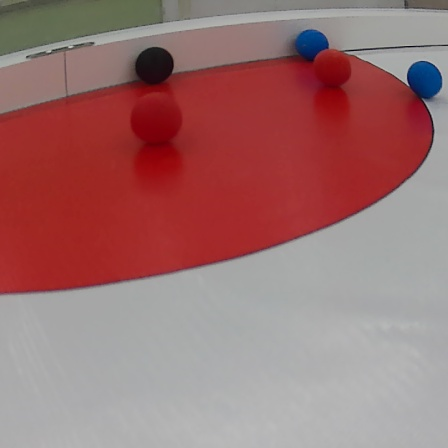black: (131, 45, 181, 79)
blue: (409, 58, 442, 99), (293, 27, 336, 56)
red: (129, 89, 188, 143), (315, 45, 348, 89)
red_base: (0, 32, 436, 295)
